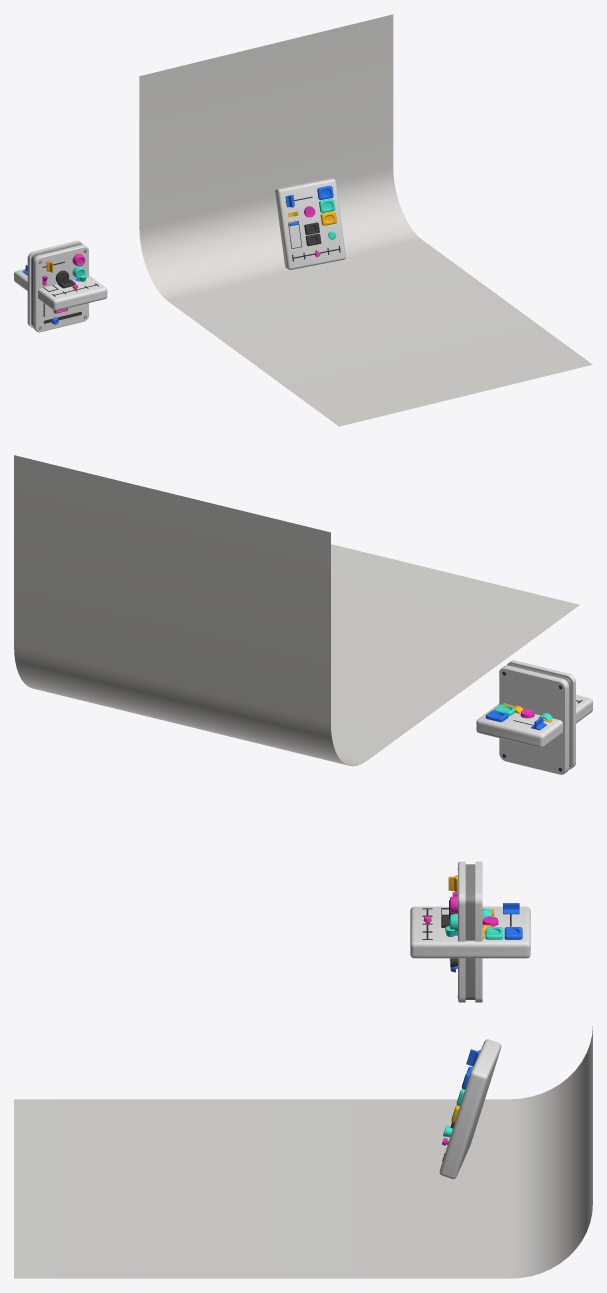
File: config-spots.glb
3 renders of one model, top to bottom at view 1: azimuth 30°, elevation 25°; view 2: azimuth 150°, elevation 25°; view 3: azimuth 270°, elevation 25°, orthographic. The views are drawn at different scales.
Parts seen in each view (by area): view 1: Plane, base (×2), face, face.001; view 2: Plane, face.001, base, face; view 3: Plane, base (×2), face, face.001.
Part boxes in pixels (<box>): Plane: <box>139,14,592,426</box>; base (×2): <box>14,178,345,310</box>; face: <box>31,244,88,332</box>; face.001: <box>27,240,82,327</box>; Plane: <box>14,455,579,766</box>; face.001: <box>499,664,570,774</box>; base: <box>476,695,592,748</box>; face: <box>507,660,575,769</box>; Plane: <box>14,1026,592,1278</box>; base (×2): <box>410,906,530,1179</box>; face: <box>458,861,474,1002</box>; face.001: <box>465,861,482,1002</box>.
Bounding box in the file's own units: 44.96 × 21.71 × 38.48.
